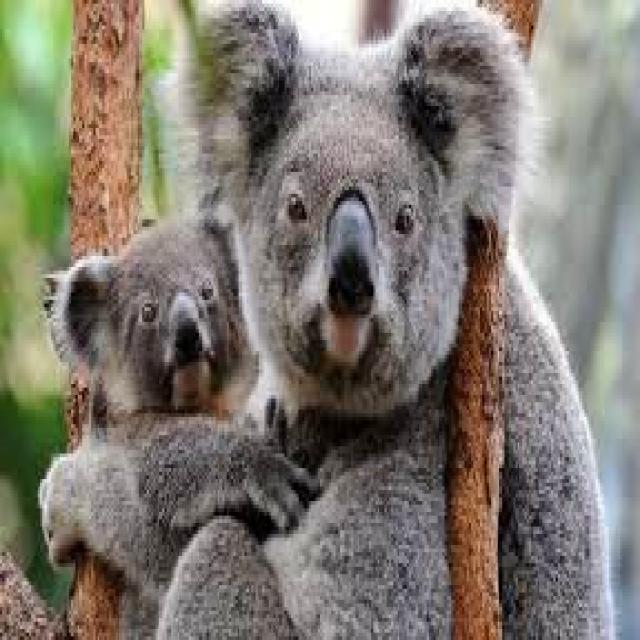koala: (42, 0, 616, 636), (47, 219, 320, 527)
